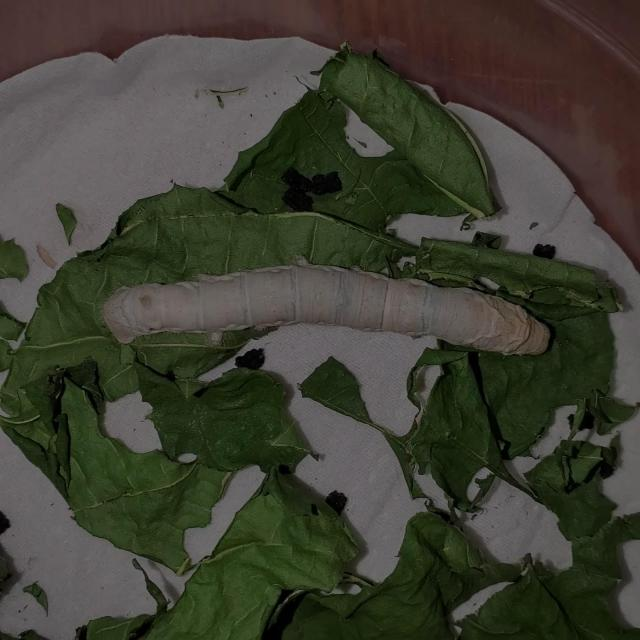Healthy: (77, 231, 590, 399)
